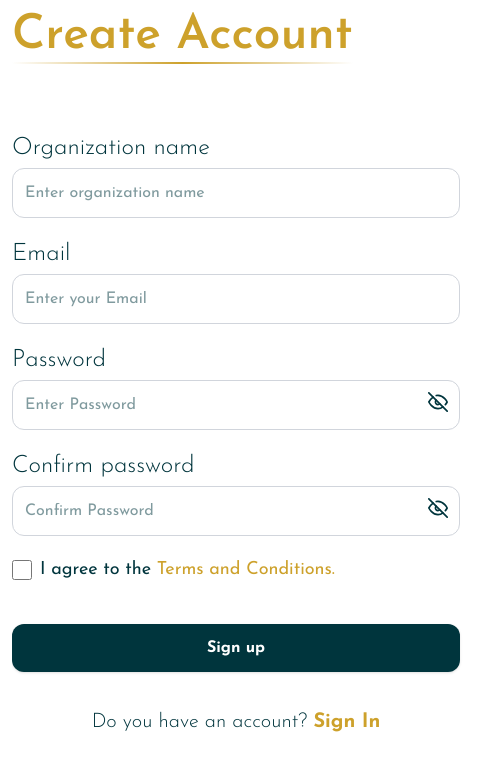
RegisterForm › validates password length (<8 chars)
In the password field labelled "Password": (236, 405) [12,380,460,430], type "1234567"
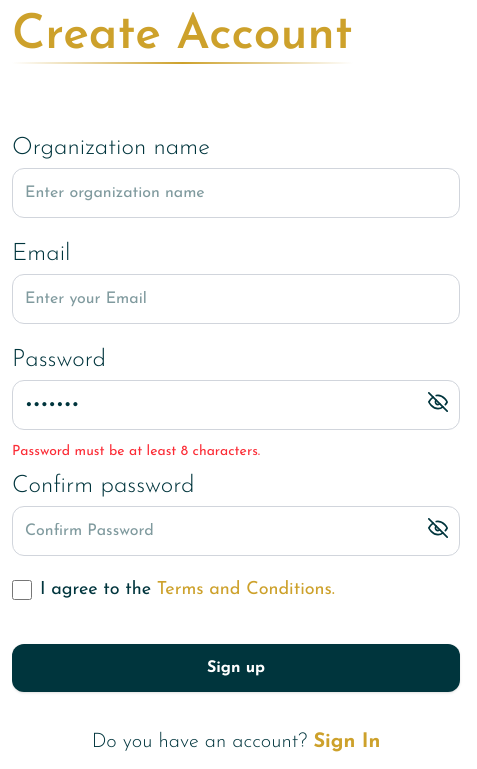
Expected: the text "Password must be at least 8 characters." is shown, [12,444,260,459]
